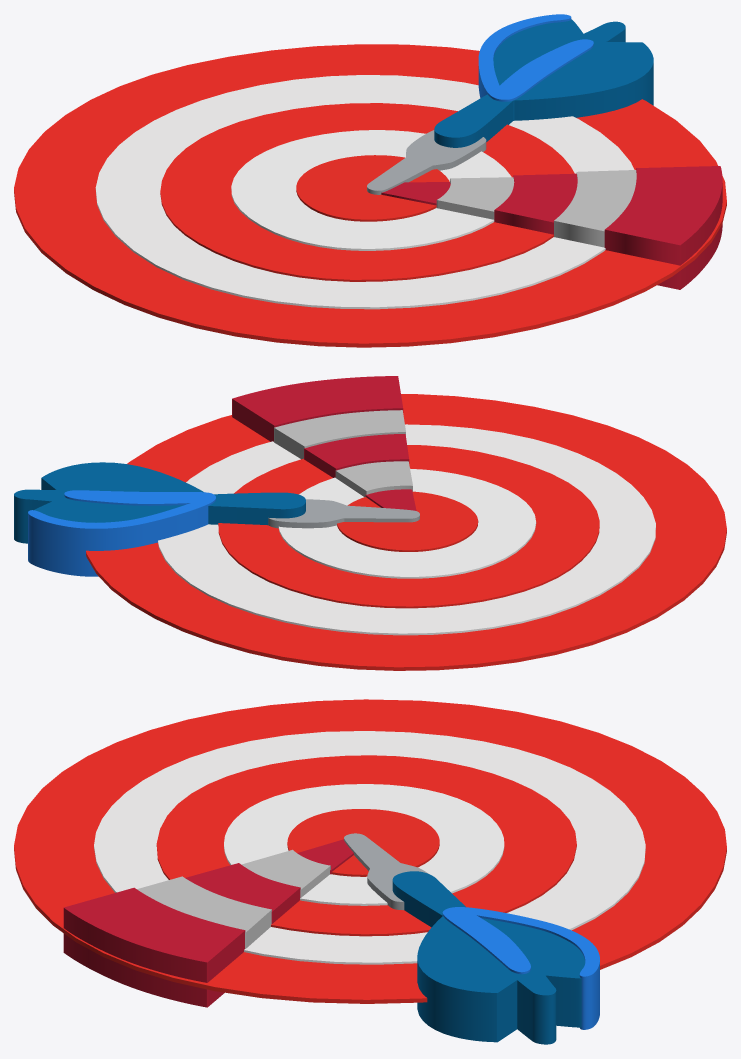
The model's file is emoji_u1f3af.glb.
3 renders of one model, top to bottom at view 1: azimuth 30°, elevation 25°; view 2: azimuth 150°, elevation 25°; view 3: azimuth 270°, elevation 25°, orthographic. The views are drawn at different scales.
Parts seen in each view (by area): view 1: emoji_u1f3af; view 2: emoji_u1f3af; view 3: emoji_u1f3af.
Part boxes in pixels (bbox=[...]): emoji_u1f3af: bbox=[14, 14, 726, 347]; emoji_u1f3af: bbox=[14, 376, 726, 670]; emoji_u1f3af: bbox=[14, 699, 726, 1044].
Bounding box in the file's own units: 0.0333 × 0.0026 × 0.0315.
